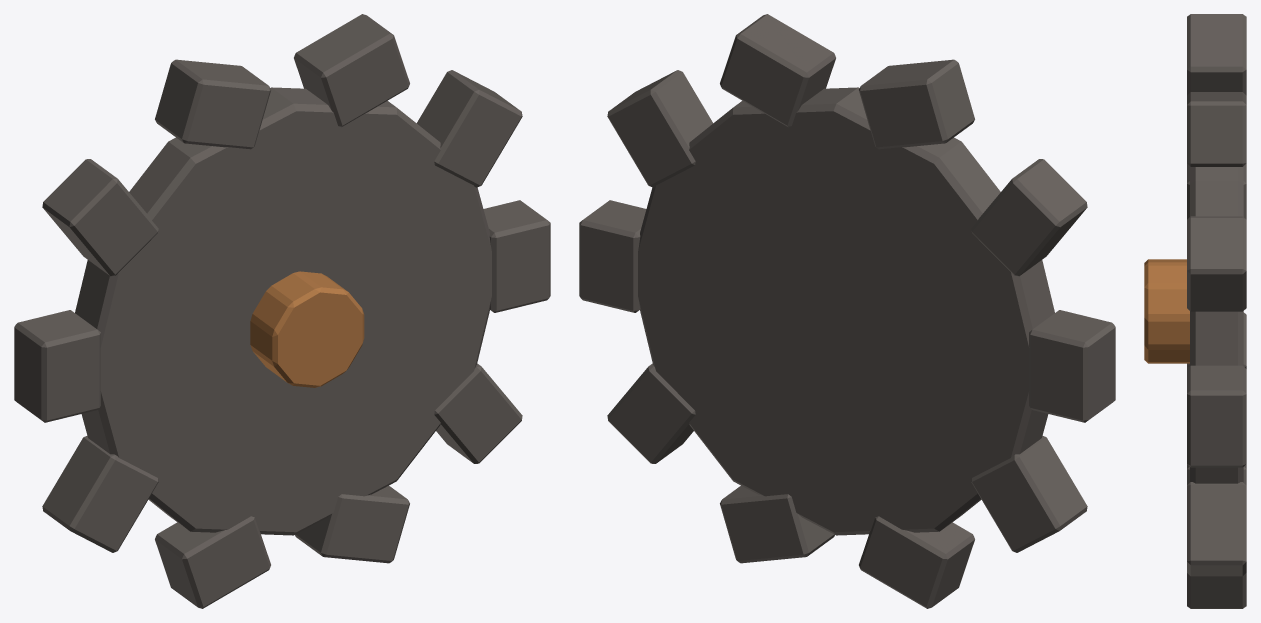
The model's file is forge_gear.glb.
3 renders of one model, left to right at view 1: azimuth 30°, elevation 25°; view 2: azimuth 150°, elevation 25°; view 3: azimuth 270°, elevation 25°, orthographic. The views are drawn at different scales.
Visible parts, largest first — view 1: ANIM_gear_body, ANIM_gear_hub, ANIM_gear_tooth_5, ANIM_gear_tooth_3, ANIM_gear_tooth_2, ANIM_gear_tooth_6, ANIM_gear_tooth_4, ANIM_gear_tooth_1, ANIM_gear_tooth_7, ANIM_gear_tooth_0, ANIM_gear_tooth_8, ANIM_gear_tooth_9; view 2: ANIM_gear_body, ANIM_gear_tooth_5, ANIM_gear_tooth_3, ANIM_gear_tooth_2, ANIM_gear_tooth_6, ANIM_gear_tooth_4, ANIM_gear_tooth_1, ANIM_gear_tooth_7, ANIM_gear_tooth_0, ANIM_gear_tooth_8, ANIM_gear_tooth_9; view 3: ANIM_gear_body, ANIM_gear_tooth_0, ANIM_gear_tooth_1, ANIM_gear_tooth_9, ANIM_gear_tooth_3, ANIM_gear_hub, ANIM_gear_tooth_2, ANIM_gear_tooth_8, ANIM_gear_tooth_5, ANIM_gear_tooth_6.
Boxes of the visible parts, x1,y1,x2,y2 form: ANIM_gear_body: [75, 87, 491, 535]; ANIM_gear_hub: [250, 271, 364, 387]; ANIM_gear_tooth_5: [14, 310, 100, 422]; ANIM_gear_tooth_3: [155, 59, 270, 149]; ANIM_gear_tooth_2: [294, 14, 409, 126]; ANIM_gear_tooth_6: [42, 435, 158, 552]; ANIM_gear_tooth_4: [42, 159, 158, 276]; ANIM_gear_tooth_1: [416, 70, 522, 187]; ANIM_gear_tooth_7: [155, 516, 270, 608]; ANIM_gear_tooth_0: [483, 200, 550, 312]; ANIM_gear_tooth_8: [295, 485, 409, 563]; ANIM_gear_tooth_9: [434, 363, 522, 463]; ANIM_gear_body: [638, 87, 1054, 535]; ANIM_gear_tooth_5: [1029, 310, 1115, 422]; ANIM_gear_tooth_3: [859, 59, 974, 149]; ANIM_gear_tooth_2: [720, 14, 835, 126]; ANIM_gear_tooth_6: [971, 435, 1087, 552]; ANIM_gear_tooth_4: [971, 159, 1087, 276]; ANIM_gear_tooth_1: [607, 70, 713, 187]; ANIM_gear_tooth_7: [859, 516, 974, 608]; ANIM_gear_tooth_0: [579, 200, 646, 312]; ANIM_gear_tooth_8: [720, 485, 834, 563]; ANIM_gear_tooth_9: [607, 363, 695, 463]; ANIM_gear_body: [1190, 166, 1243, 483]; ANIM_gear_tooth_0: [1187, 365, 1246, 467]; ANIM_gear_tooth_1: [1187, 216, 1246, 311]; ANIM_gear_tooth_9: [1187, 482, 1246, 576]; ANIM_gear_tooth_3: [1187, 14, 1246, 95]; ANIM_gear_hub: [1144, 259, 1189, 363]; ANIM_gear_tooth_2: [1187, 92, 1246, 166]; ANIM_gear_tooth_8: [1187, 573, 1246, 608]; ANIM_gear_tooth_5: [1187, 163, 1246, 219]; ANIM_gear_tooth_6: [1187, 312, 1246, 368].
Size of the model in its own units: 3.58 by 3.56 by 0.65.
